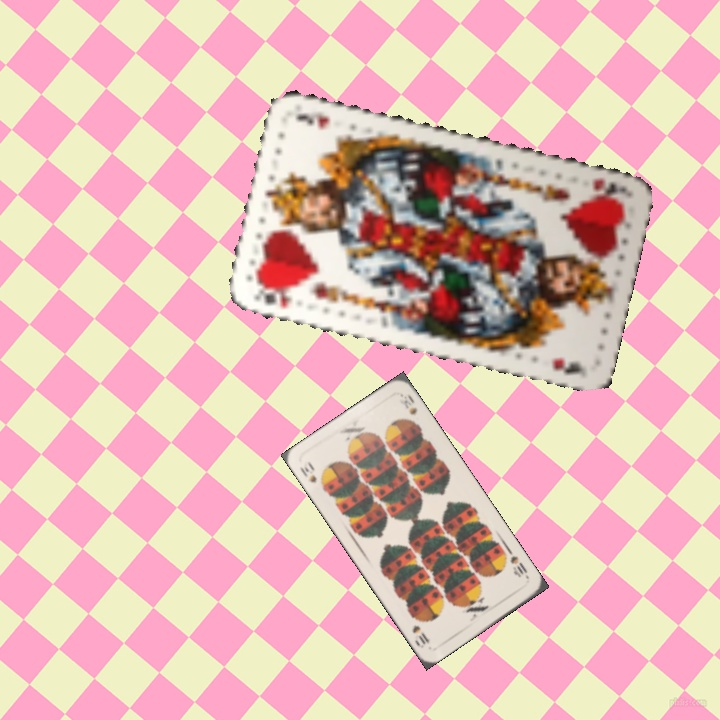HK: (249, 279, 295, 312), (588, 173, 629, 199)
S10: (295, 457, 328, 492), (506, 551, 531, 582)
